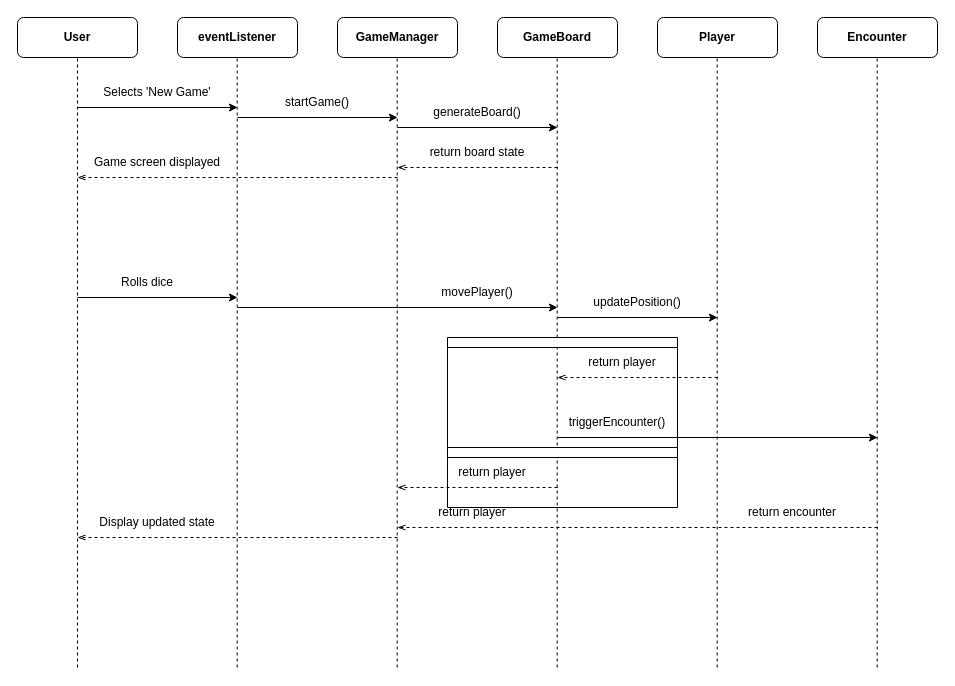
This 955x686 diagram has some shape labels left out. Here are the shapes that lost their labels. From the top down, the box of each, then its label:
(446, 336, 678, 448): if player OnEventTile
(446, 446, 678, 508): else
